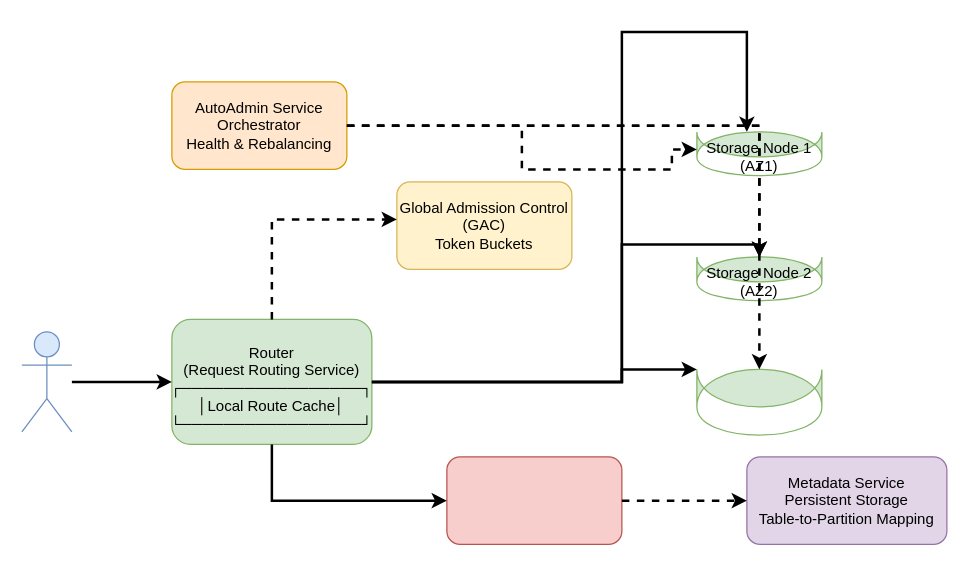
Some shapes in this 969 by 566 pixel diagram are drawn without their labels. Here are the shapes that lost their labels. From the top down, the centre of each, then its label:
(x=46, y=381): Client
(x=759, y=387): Storage Node 3 (AZ3)
(x=534, y=500): MemDS (In-Memory Data Store) Patricia/Merkle Tree
